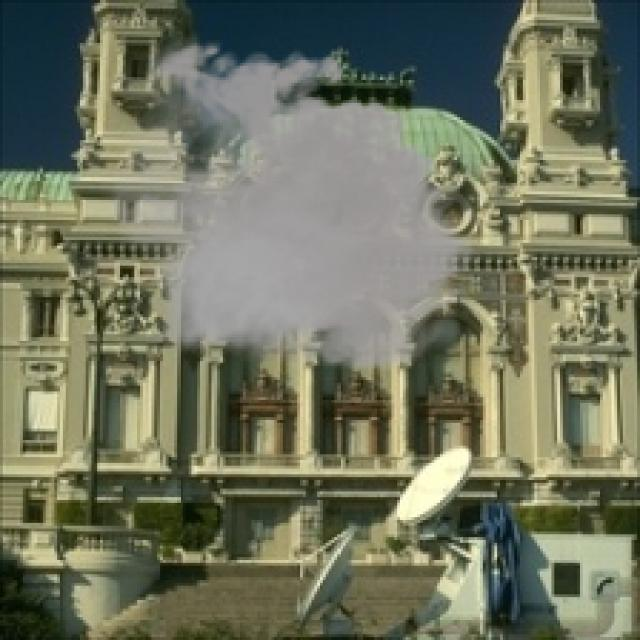smoke: (91, 31, 488, 383)
